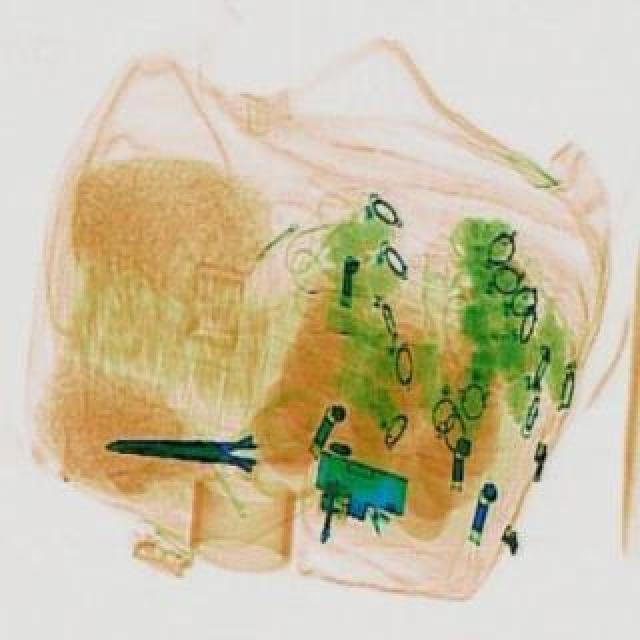knife: (104, 426, 256, 468)
